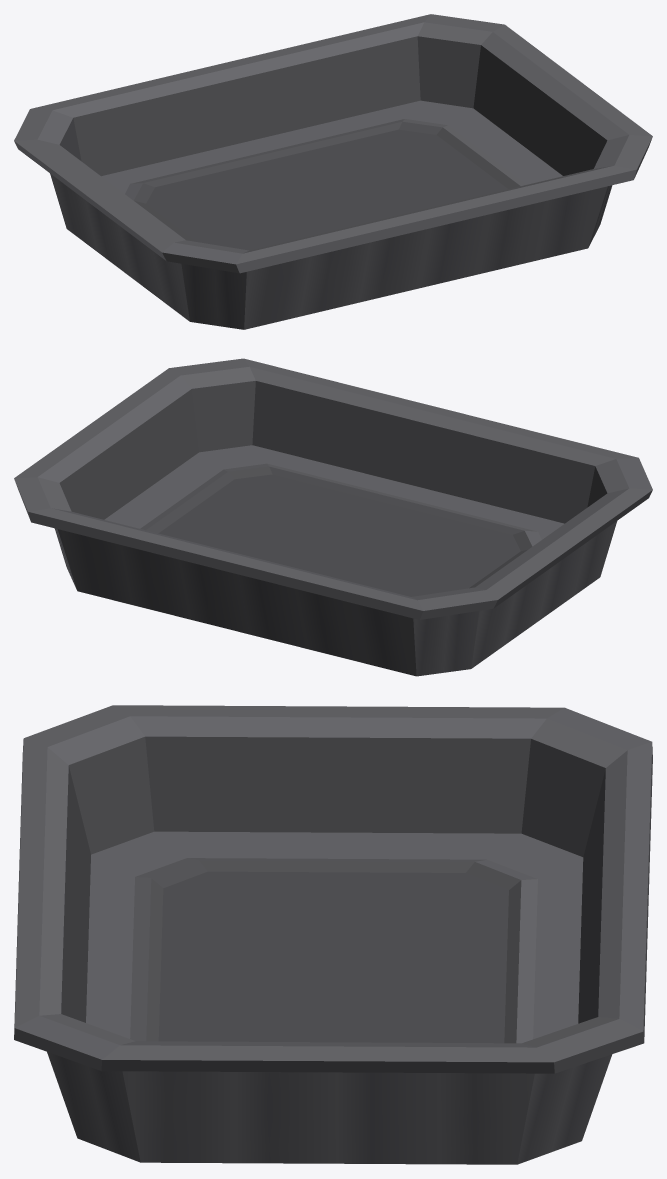
File: SM_Prop_Food_Tray_01.fbx
3 renders of one model, top to bottom at view 1: azimuth 30°, elevation 25°; view 2: azimuth 150°, elevation 25°; view 3: azimuth 270°, elevation 25°, orthographic. The views are drawn at different scales.
Parts seen in each view (by area): view 1: SM_Prop_Food_Tray_01; view 2: SM_Prop_Food_Tray_01; view 3: SM_Prop_Food_Tray_01.
Part boxes in pixels (x1,y1,x2,y2): SM_Prop_Food_Tray_01: (14,14,652,329); SM_Prop_Food_Tray_01: (14,358,652,676); SM_Prop_Food_Tray_01: (14,705,652,1164).
Size of the model in its own units: 45.88 by 8 by 34.69.
